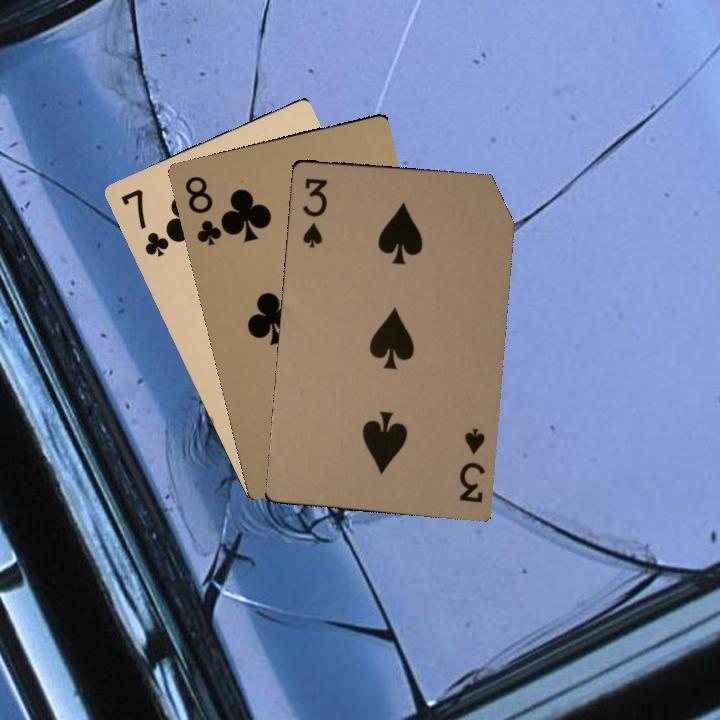3s: (455, 426, 488, 506), (298, 174, 330, 250)
7c: (117, 184, 172, 260)
8c: (180, 172, 227, 248)
